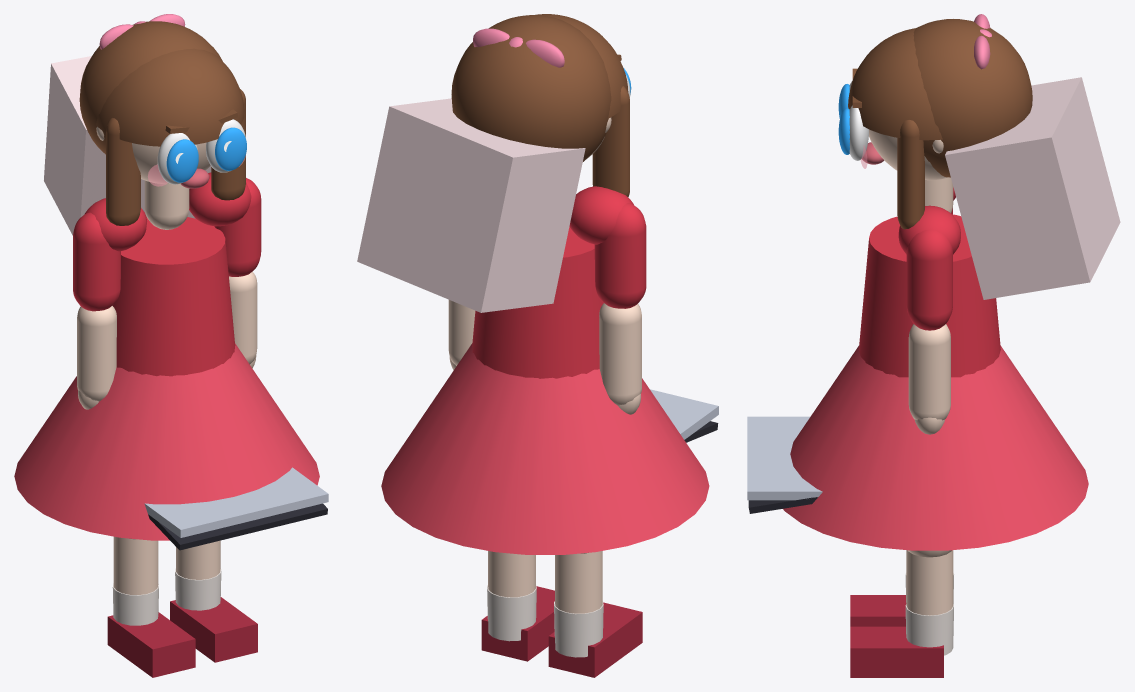
File: lily_custom_rigged.glb
3 renders of one model, left to right at view 1: azimuth 30°, elevation 25°; view 2: azimuth 150°, elevation 25°; view 3: azimuth 270°, elevation 25°, orthographic. The views are drawn at different scales.
Size of the model in its own units: 0.9806 by 2.14 by 1.16.
